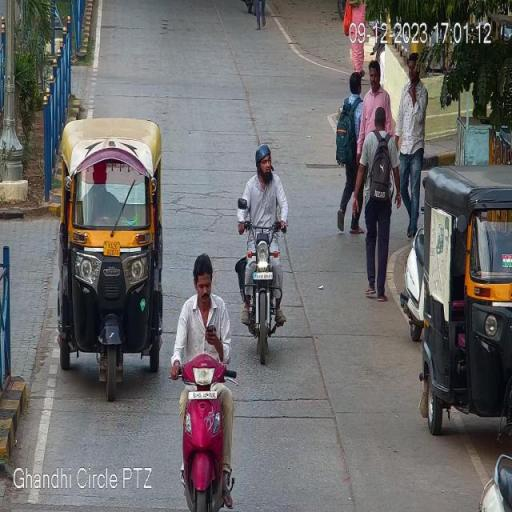using mobile: (205, 318, 218, 350)
